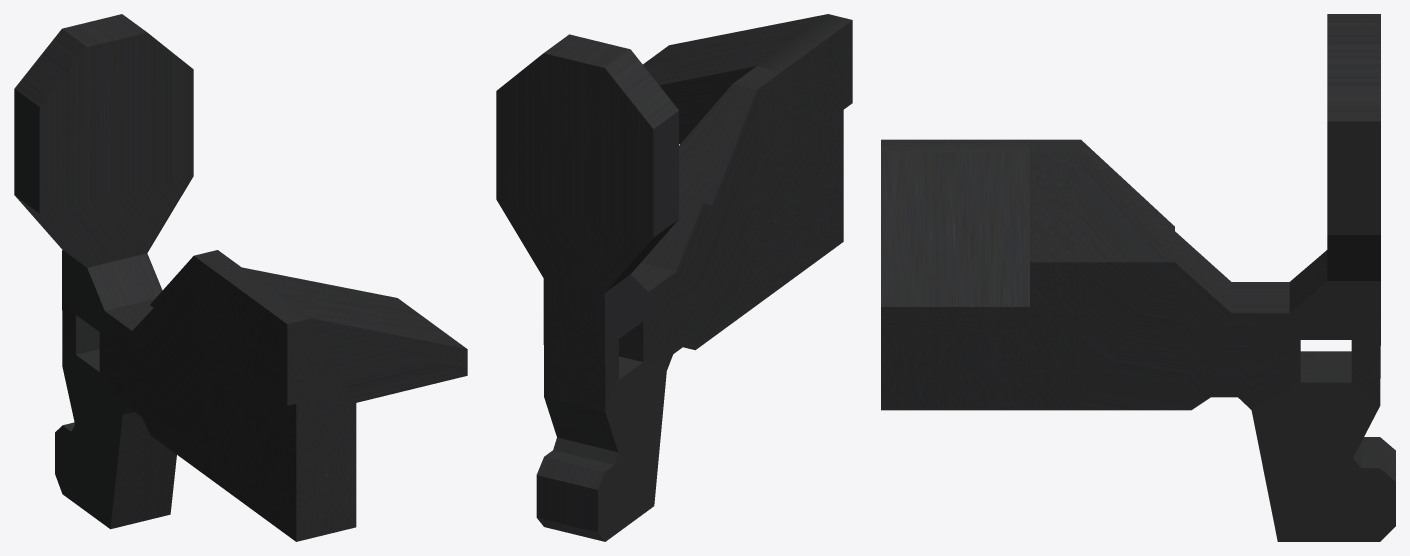
The model's file is Bolt_Catch.dae.
3 renders of one model, left to right at view 1: azimuth 30°, elevation 25°; view 2: azimuth 150°, elevation 25°; view 3: azimuth 270°, elevation 25°, orthographic. The views are drawn at different scales.
Visible parts, largest first — view 1: Bolt_Catch; view 2: Bolt_Catch; view 3: Bolt_Catch.
Part boxes in pixels (box(x1,y1,x2,y2)): Bolt_Catch: box(14, 14, 467, 541); Bolt_Catch: box(496, 14, 852, 541); Bolt_Catch: box(881, 14, 1395, 541).
Size of the model in its own units: 0.0135 by 0.0257 by 0.0274.
Materials: 1 (1 with a texture image).
